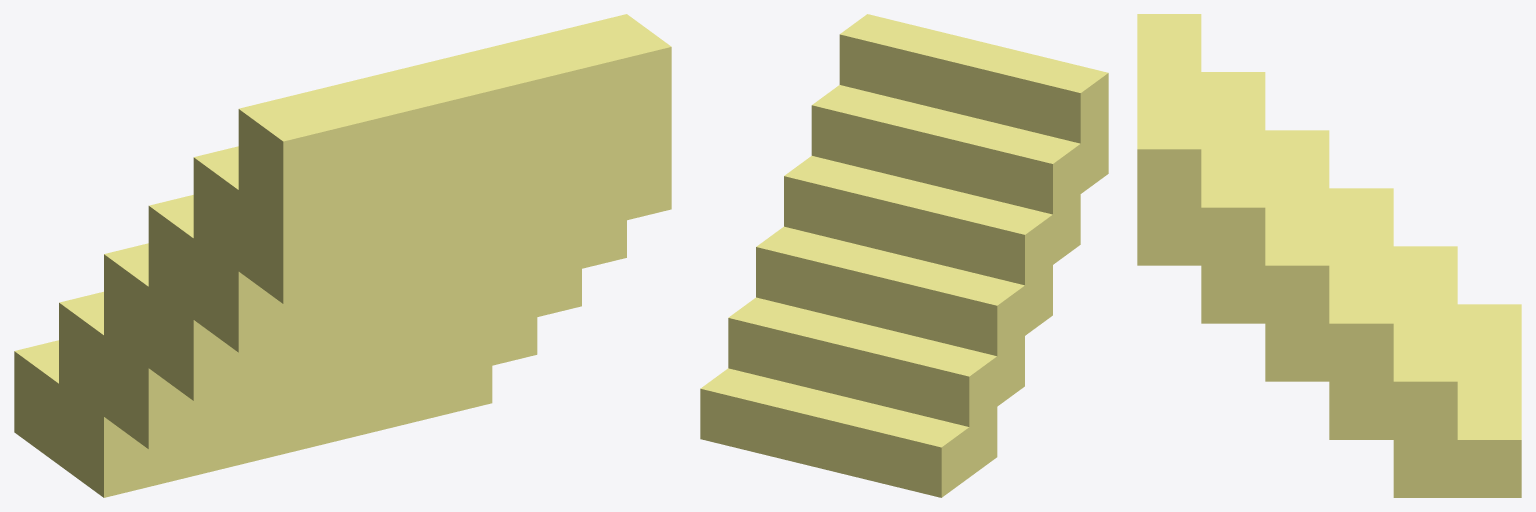
File: lamp-0.obj
3 views of the same model, side by side, from view 1: azimuth 30°, elevation 25°; view 2: azimuth 150°, elevation 25°; view 3: azimuth 270°, elevation 25° (orthographic). The views are drawn at different scales.
Bounding box in the file's own units: 0.5 × 0.6 × 0.6.
Materials: 1 (1 with a texture image).
